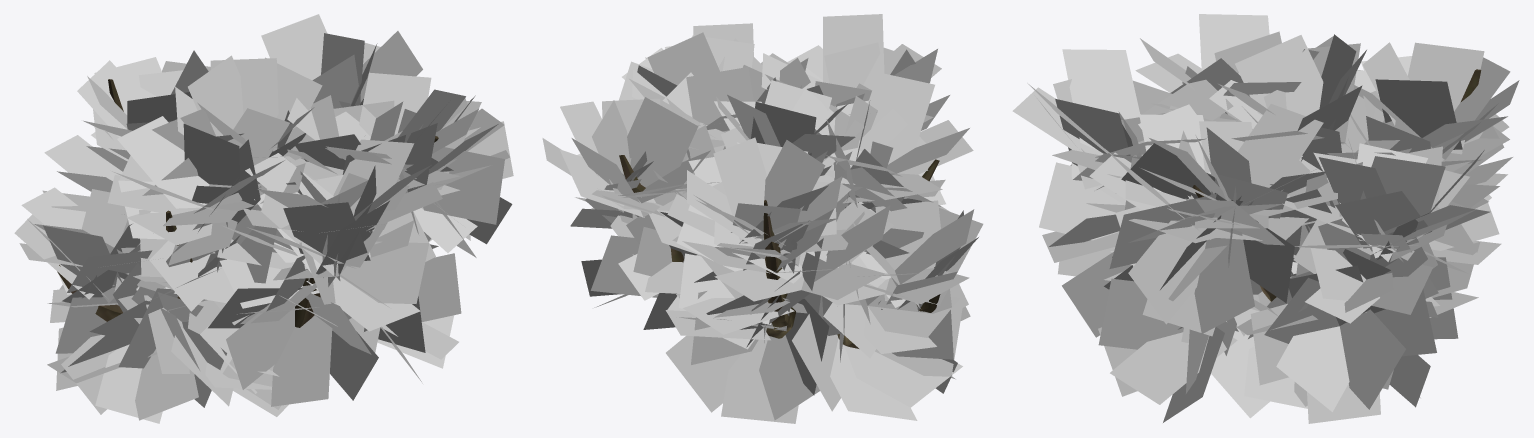
Rendered from e_courtyard_tree_bushy.fbx.
3 renders of one model, left to right at view 1: azimuth 30°, elevation 25°; view 2: azimuth 150°, elevation 25°; view 3: azimuth 270°, elevation 25°, orthographic. The views are drawn at different scales.
Parts seen in each view (by area): view 1: polySurface2958; view 2: polySurface2958; view 3: polySurface2958.
Boxes of the visible parts, x1,y1,x2,y2 form: polySurface2958: (14,14,513,423); polySurface2958: (542,14,983,423); polySurface2958: (1012,14,1519,423).
Size of the model in its own units: 3.58 by 2.6 by 3.46.
